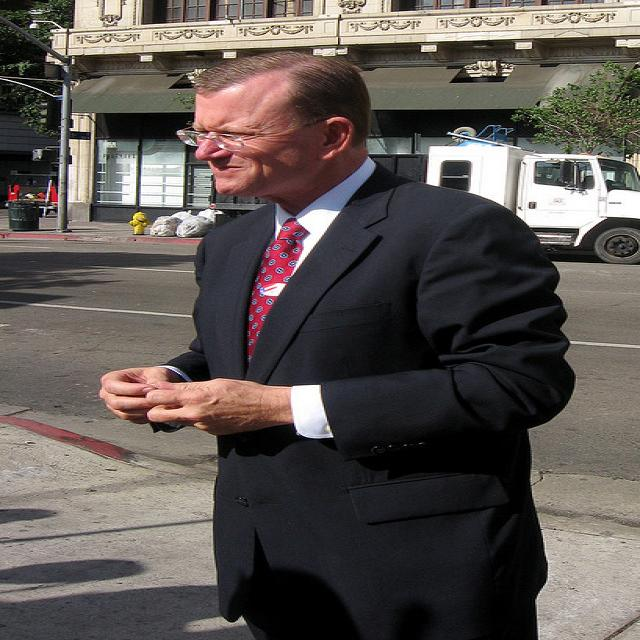Vehicle: (204, 123, 640, 264)
